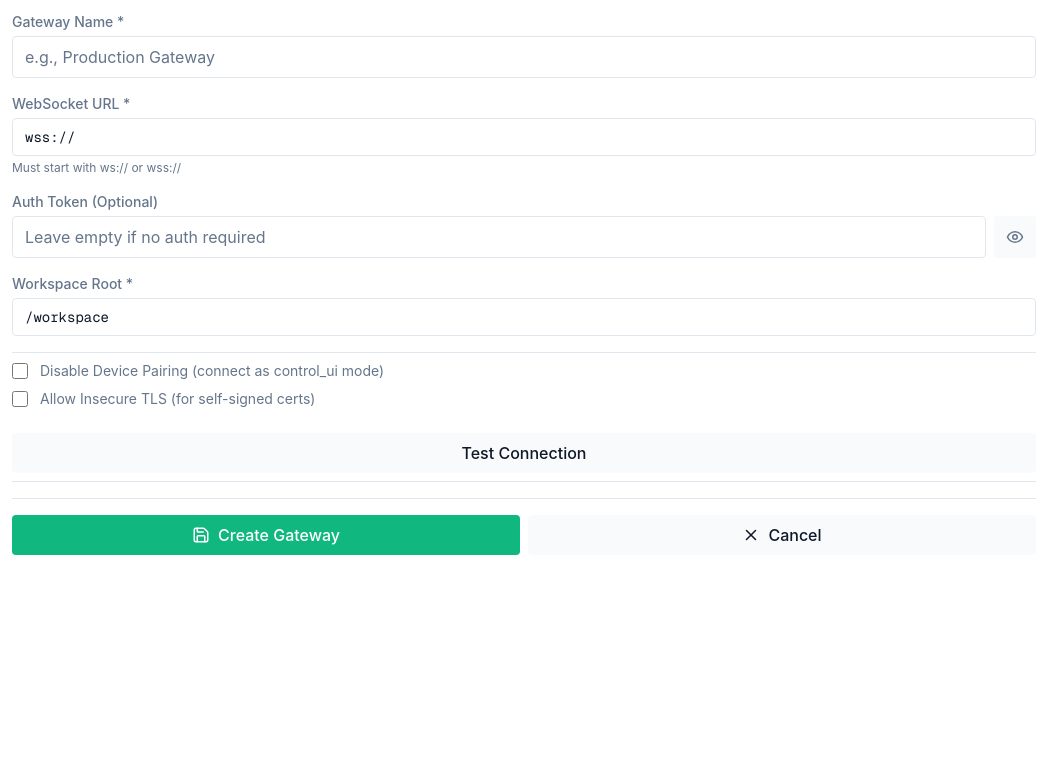
Scenario: GatewayForm Component › Test Connection Button › displays success badge when connection succeeds
This screenshot has width=1048, height=780.
Replace the text in the field with placeholder "wss://gateway.example.com:443" below "WebSocket URL *" with "wss://example.com" at (524, 137), box x1=12 y1=118 x2=1036 y2=156
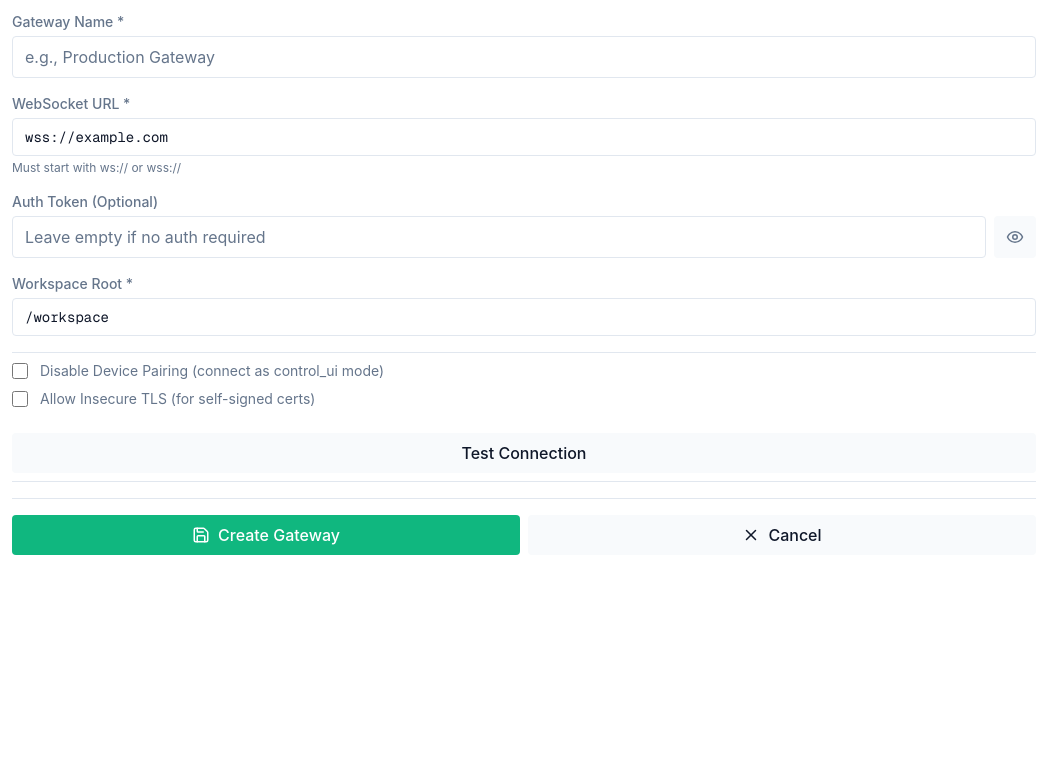
Click the button "Test Connection".
click(524, 453)  # box x1=12 y1=433 x2=1036 y2=473
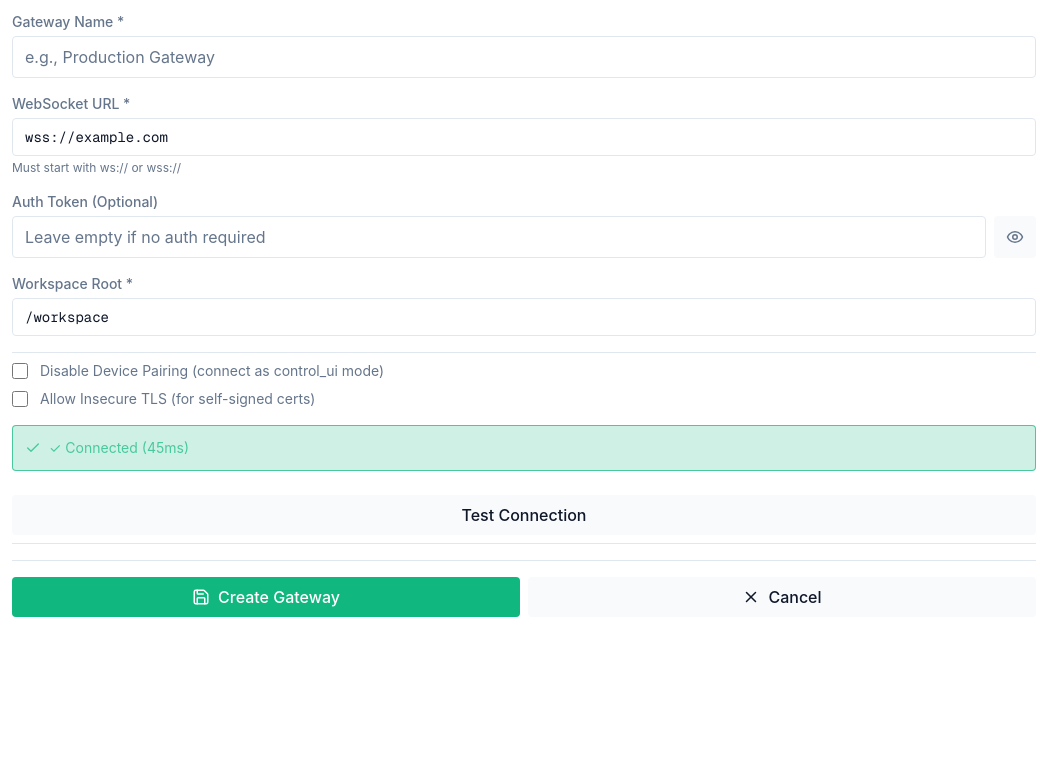
Expected: the text "✓ Connected (45ms)" is shown, x1=49 y1=438 x2=189 y2=458
